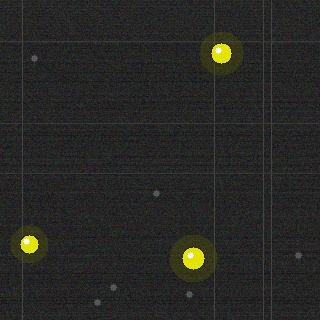yellow_warning: (180, 245, 206, 271), (209, 41, 233, 65), (18, 233, 40, 255)
